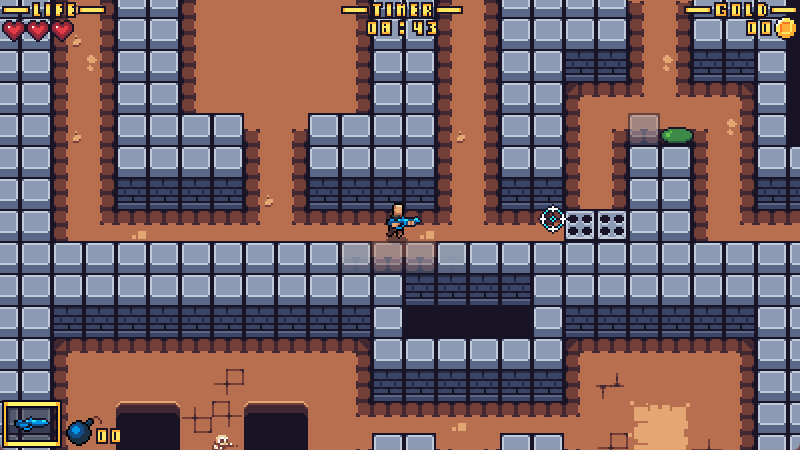aim: (539, 206, 565, 232)
bomb_counter_0: (65, 415, 124, 447)
enemy_slug: (659, 126, 695, 145)
gold_counter: (683, 1, 799, 40)
health: (1, 19, 76, 44)
player: (383, 200, 424, 240)
timer: (338, 1, 465, 40)
trap_off: (563, 208, 630, 241)
